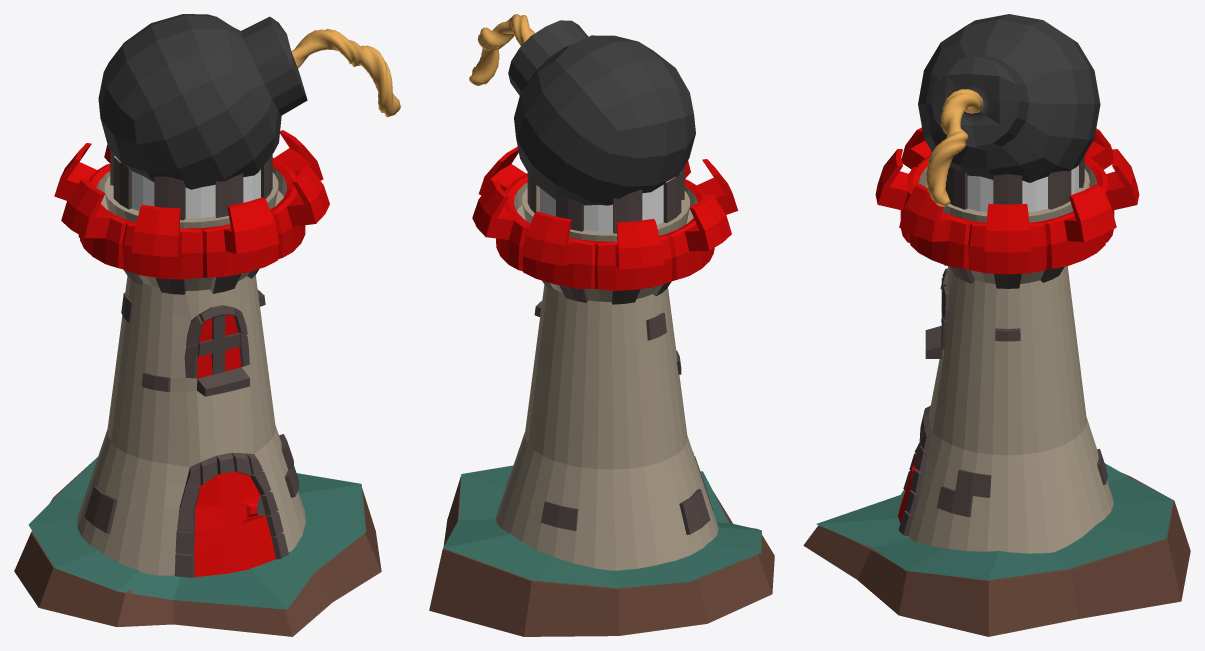
Rendered from bomba_kale.fbx.
3 renders of one model, left to right at view 1: azimuth 30°, elevation 25°; view 2: azimuth 150°, elevation 25°; view 3: azimuth 270°, elevation 25°, orthographic. The views are drawn at different scales.
Parts seen in each view (by area): view 1: Cylinder.010, cımen.009, Circle.002; view 2: Cylinder.010, Circle.002, cımen.009; view 3: Cylinder.010, Circle.002, cımen.009.
Boxes of the visible parts, box(x1,y1,x2,y2) form: Cylinder.010: box(54, 14, 400, 577); cımen.009: box(28, 457, 366, 609); Circle.002: box(14, 457, 381, 636); Cylinder.010: box(469, 14, 738, 570); Circle.002: box(429, 476, 774, 636); cımen.009: box(443, 465, 761, 588); Cylinder.010: box(875, 14, 1139, 553); Circle.002: box(803, 473, 1190, 636); cımen.009: box(816, 463, 1173, 580).
Bounding box in the file's own units: 488 × 754 × 496.
